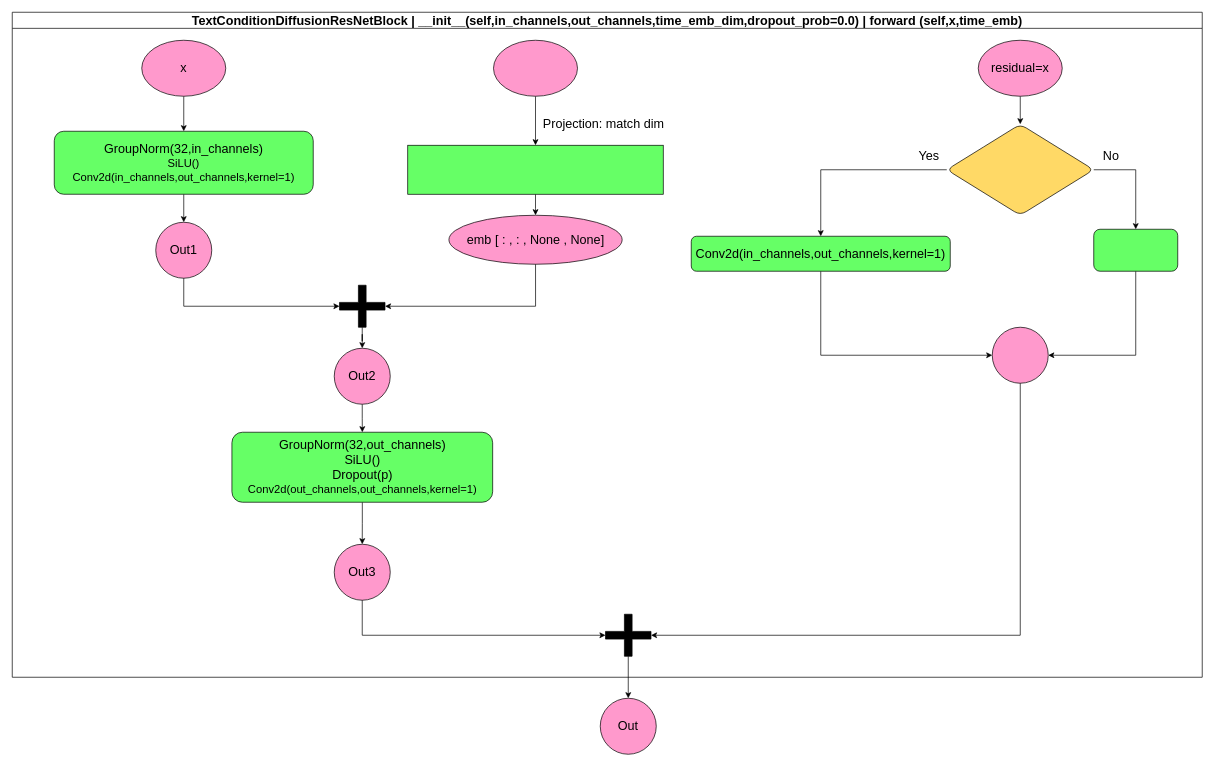
The diagram is 1215 pixels wide and 767 high, and some of its shapes have lost their labels. The shapes that lost their labels are listed below. From the top down, each one's box as (x1, y1, x2, y2) in pixels, then its label:
(493, 40, 578, 96): time_emb
(407, 145, 663, 194): SiLU() Linear(time_emb_dim,out_channels)
(946, 124, 1094, 215): if in_channels != out_channels
(1093, 229, 1178, 271): nn.Identity()
(992, 327, 1048, 383): residual
